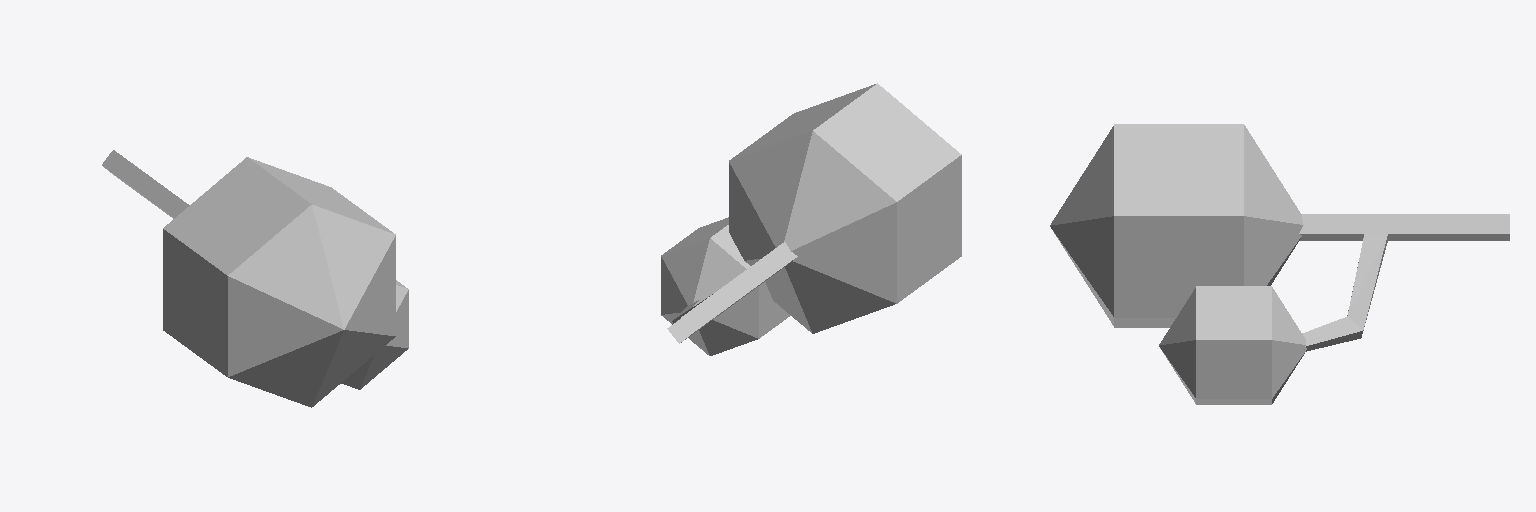
File: tree1.obj
3 views of the same model, side by side, from view 1: azimuth 30°, elevation 25°; view 2: azimuth 150°, elevation 25°; view 3: azimuth 270°, elevation 25° (orthographic).
Parts seen in each view (by area): view 1: tree1; view 2: tree1; view 3: tree1.
Boxes of the visible parts, x1,y1,x2,y2 form: tree1: [102, 150, 408, 407]; tree1: [661, 83, 961, 355]; tree1: [1050, 124, 1509, 404].
Bounding box in the file's own units: 4.12 × 4.21 × 7.4.